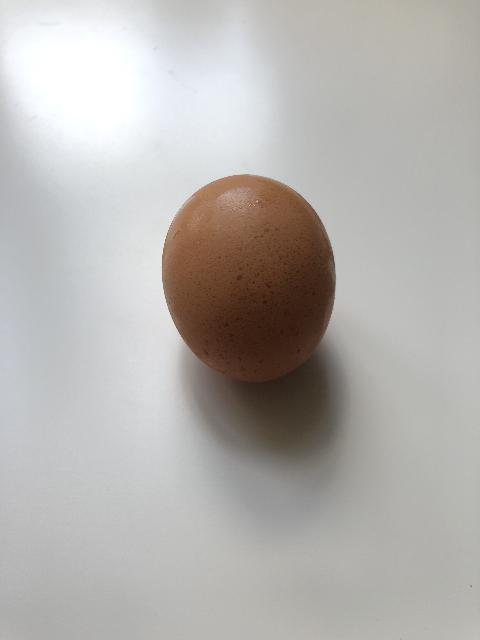Sano: (160, 173, 337, 383)
